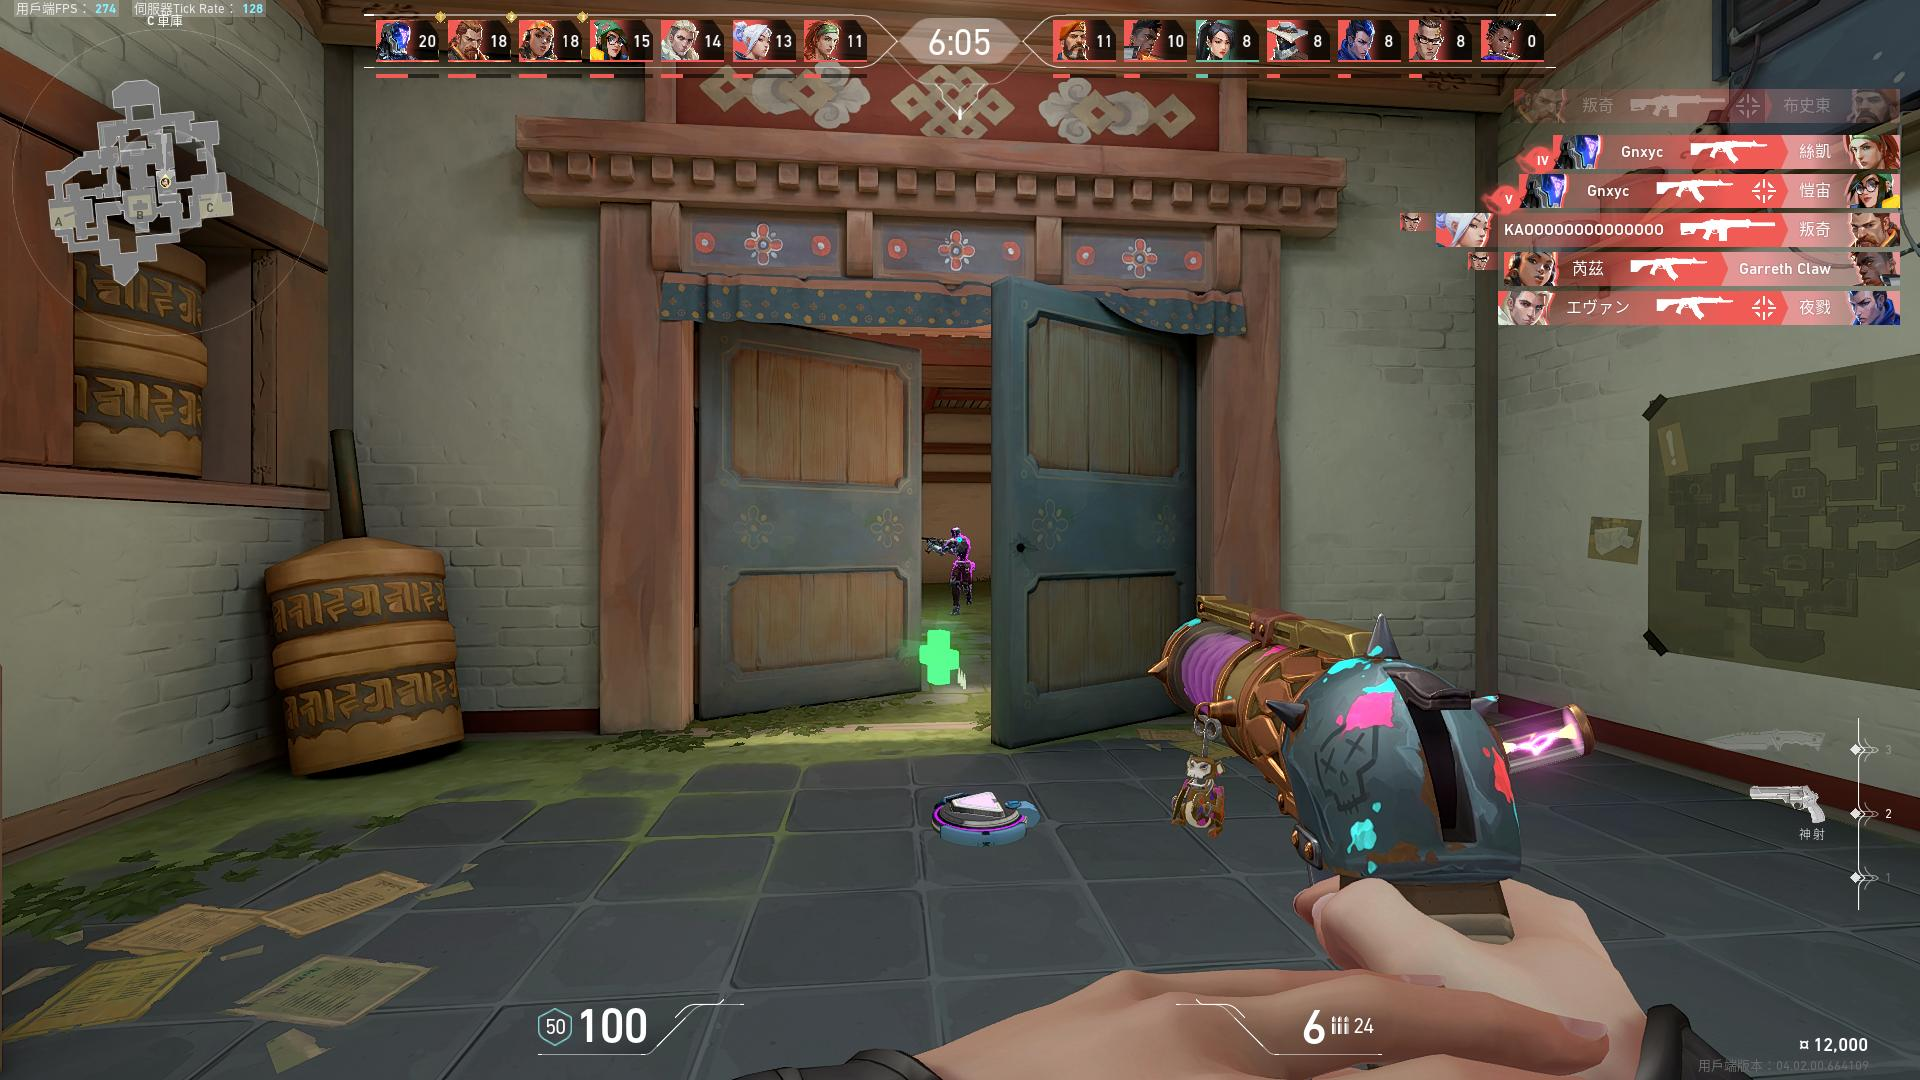enemyBody: (957, 539, 968, 560)
enemyHead: (952, 529, 960, 537)
